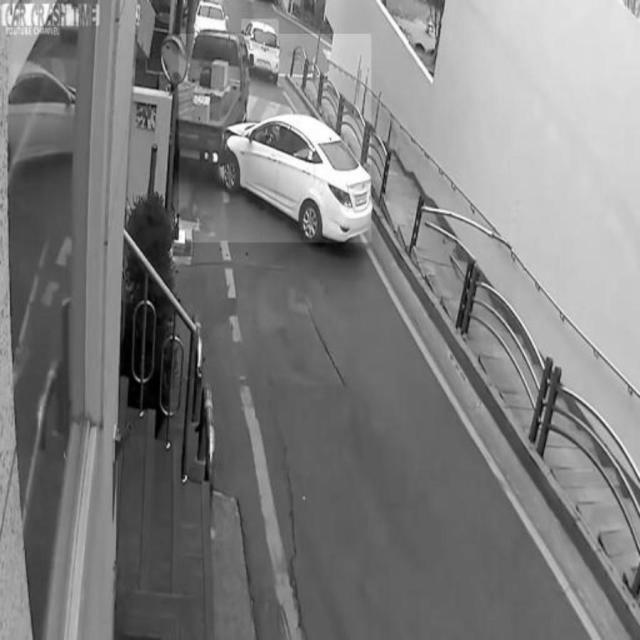accident: (179, 34, 371, 242)
vehicle: (243, 19, 280, 81)
